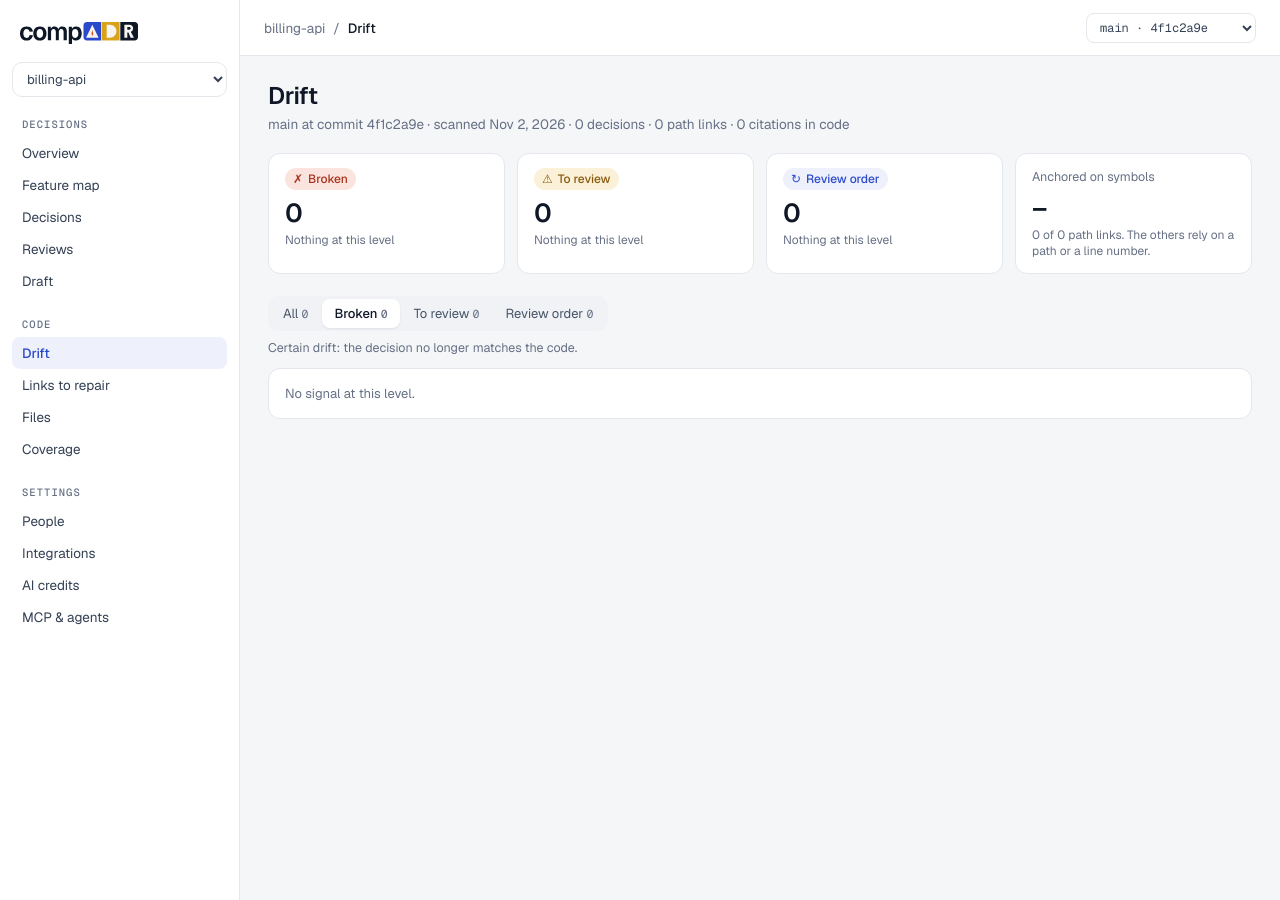
Scenario: reports › loads the report of the selected reference
This screenshot has width=1280, height=900.
expect the text "main at commit 4f1c2a9e" is shown: met, box top-left (268, 115), bottom-right (850, 133)
Select "develop · 9a8b7c6d" in the dropdown named "Git reference" in the row of "billing-api" at (1171, 28), box top-left (1086, 12), bottom-right (1256, 42)
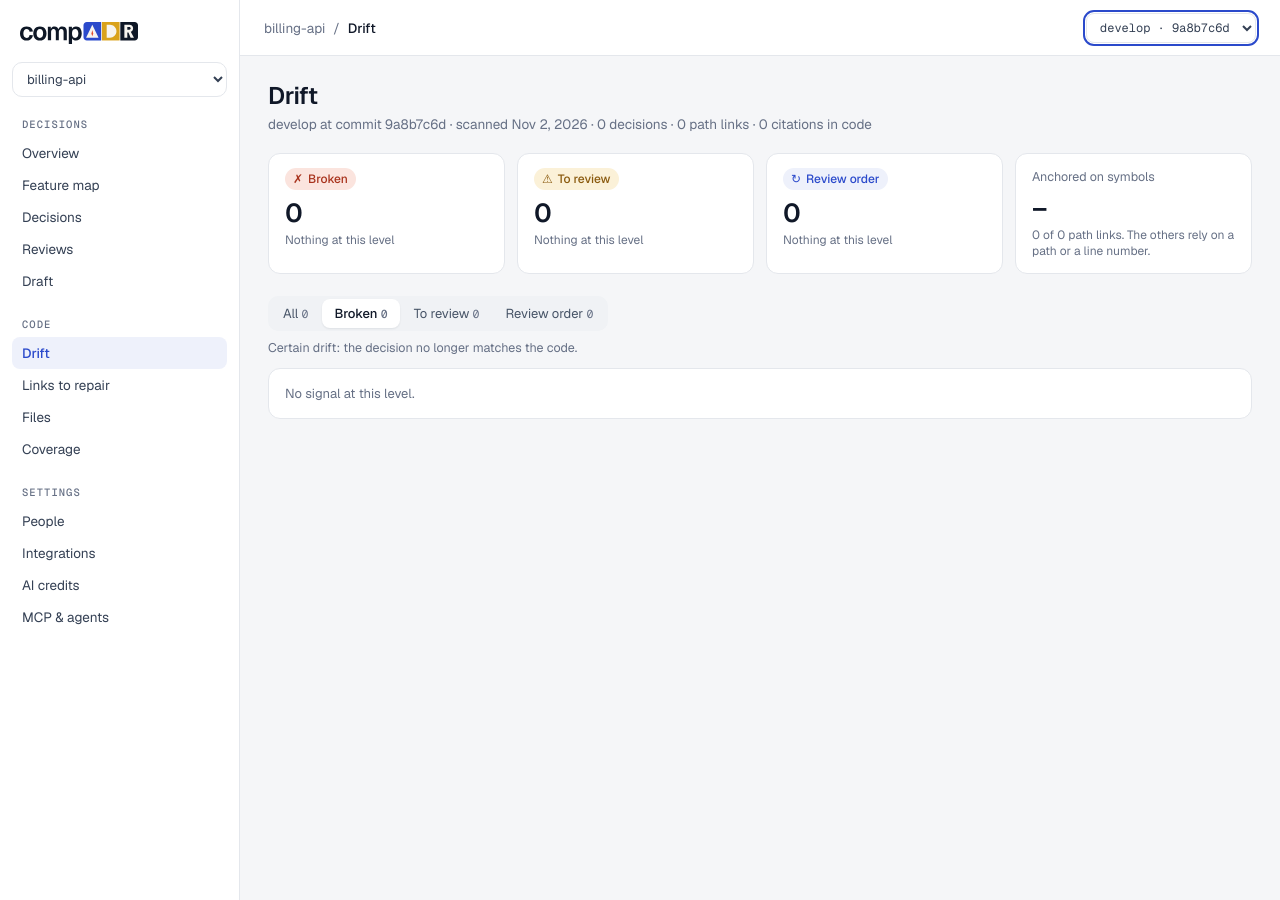
expect the text "develop at commit 9a8b7c6d" is shown: met, box top-left (268, 115), bottom-right (872, 133)
